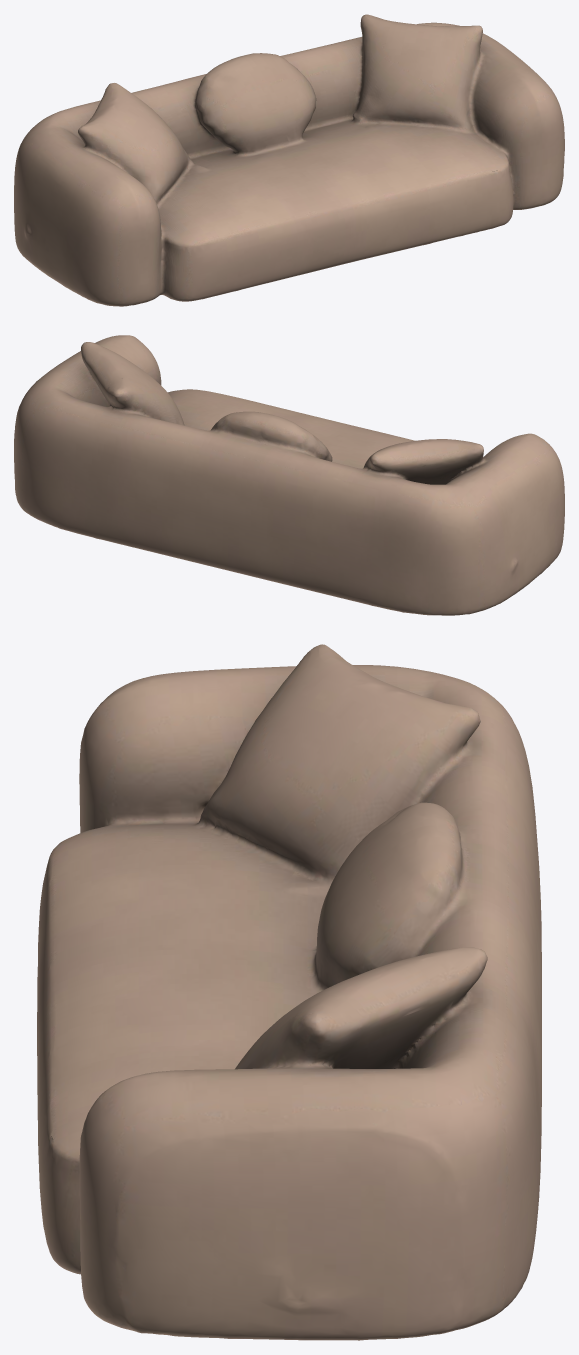
The model's file is sklum-canape-coco.glb.
The picture shows the model from 3 angles, top to bottom: view 1: azimuth 30°, elevation 25°; view 2: azimuth 150°, elevation 25°; view 3: azimuth 270°, elevation 25°; orthographic projection. The views are drawn at different scales.
Visible parts, largest first — view 1: Canape_Coco; view 2: Canape_Coco; view 3: Canape_Coco.
Part boxes in pixels (bbox=[...]): Canape_Coco: bbox=[14, 14, 564, 306]; Canape_Coco: bbox=[14, 335, 564, 615]; Canape_Coco: bbox=[37, 644, 541, 1340].
Bounding box in the file's own units: 2.3 × 0.6494 × 1.03.
Materials: 1 (1 with a texture image).
